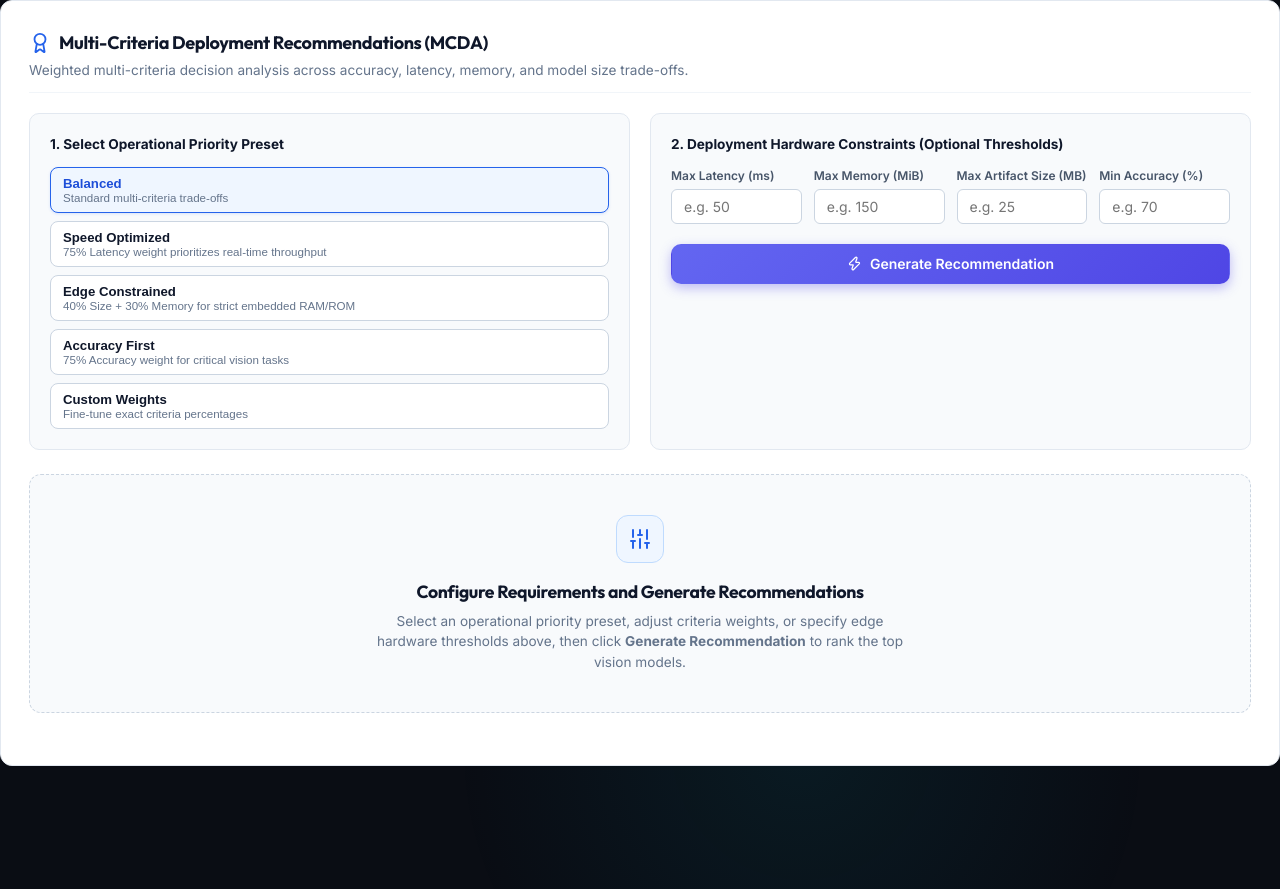
Test: Recommendations Component › rejects custom weights when all weights are zero with inline validation message
// Select Custom Weights preset
Click the button "Custom Weights Fine-tune exact criteria percentages".
click(115, 399)  # box [50,383,609,429]
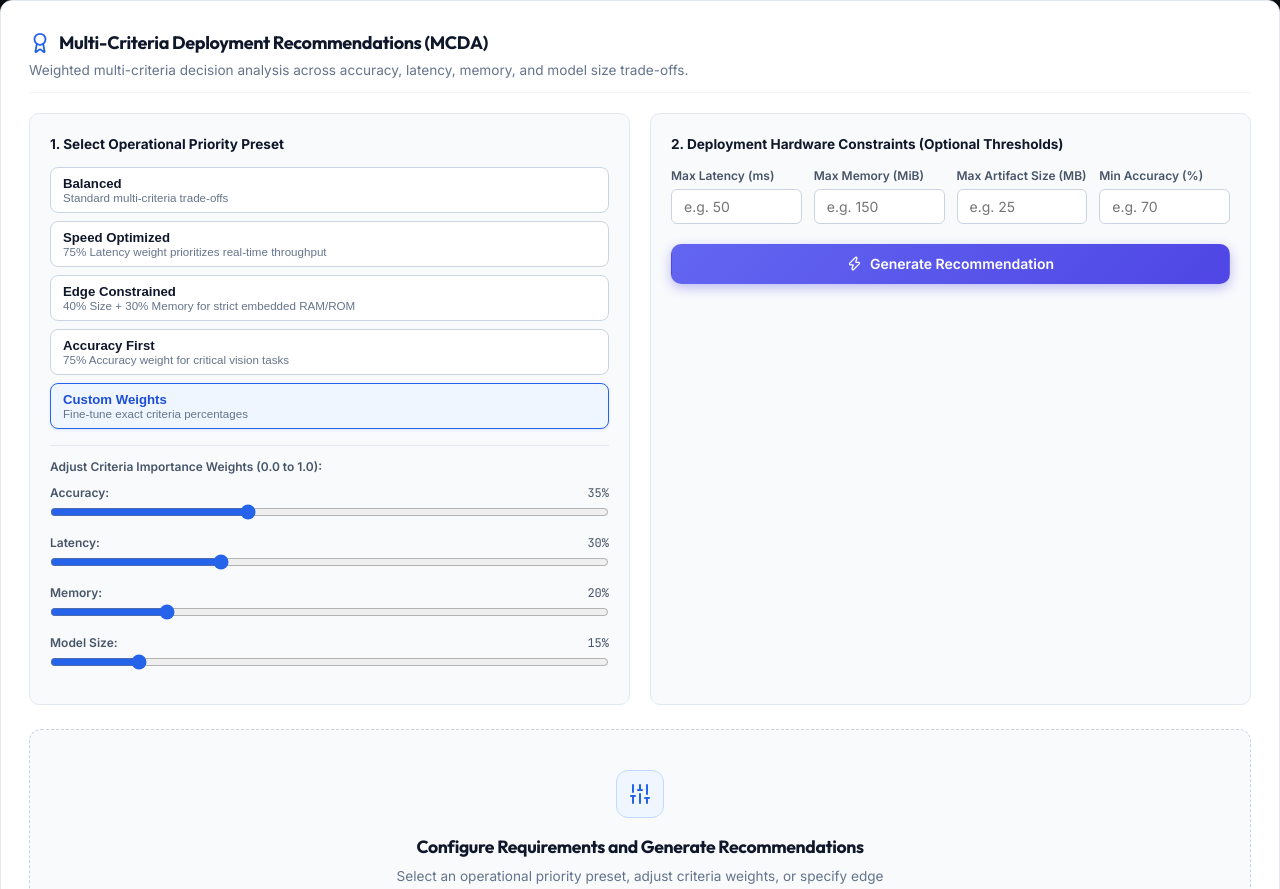
// Set all 4 criteria sliders to 0
Set the slider with id "slider-weight-accuracy" to "0" at (58, 512), box [50,504,609,520]
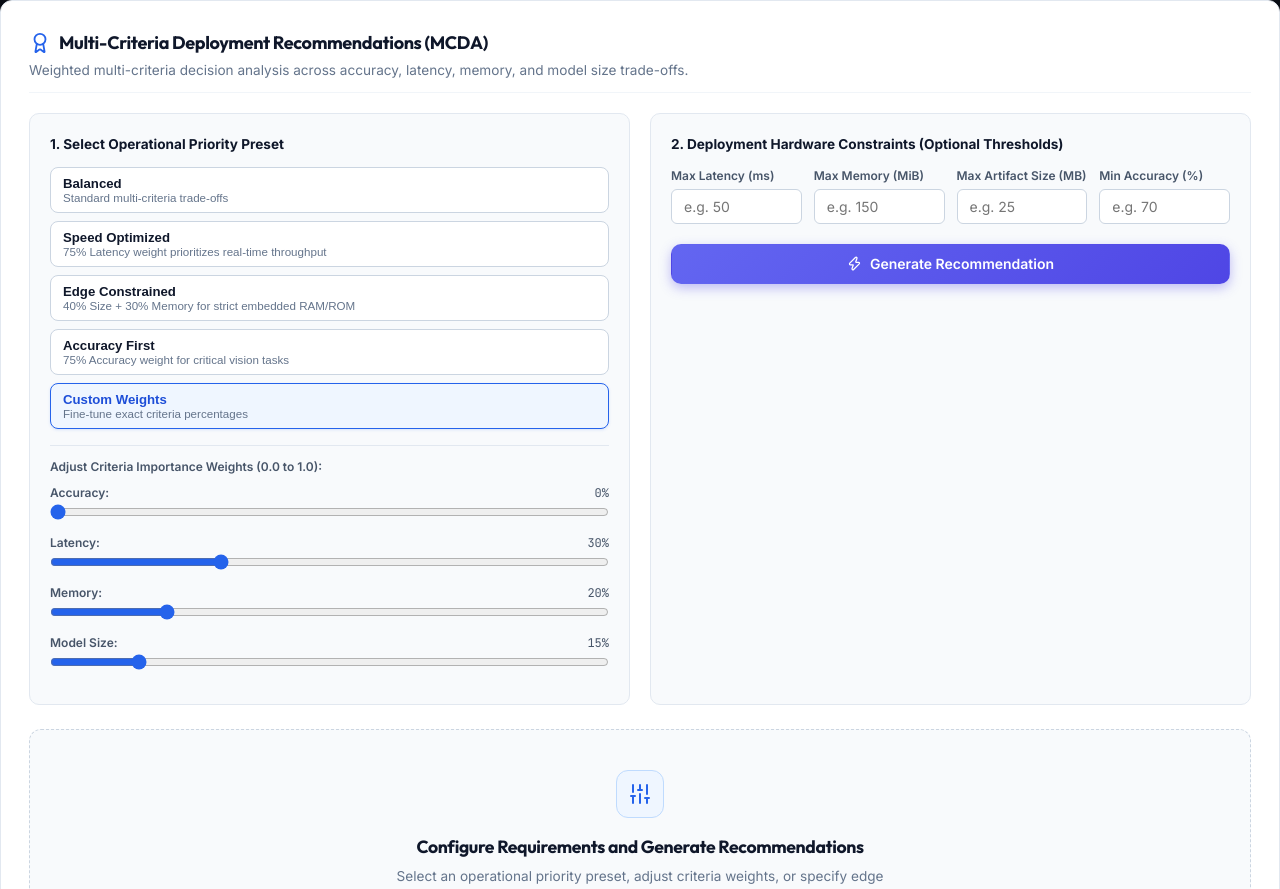
Set the slider with id "slider-weight-latency" to "0" at (58, 562), box [50,554,609,570]
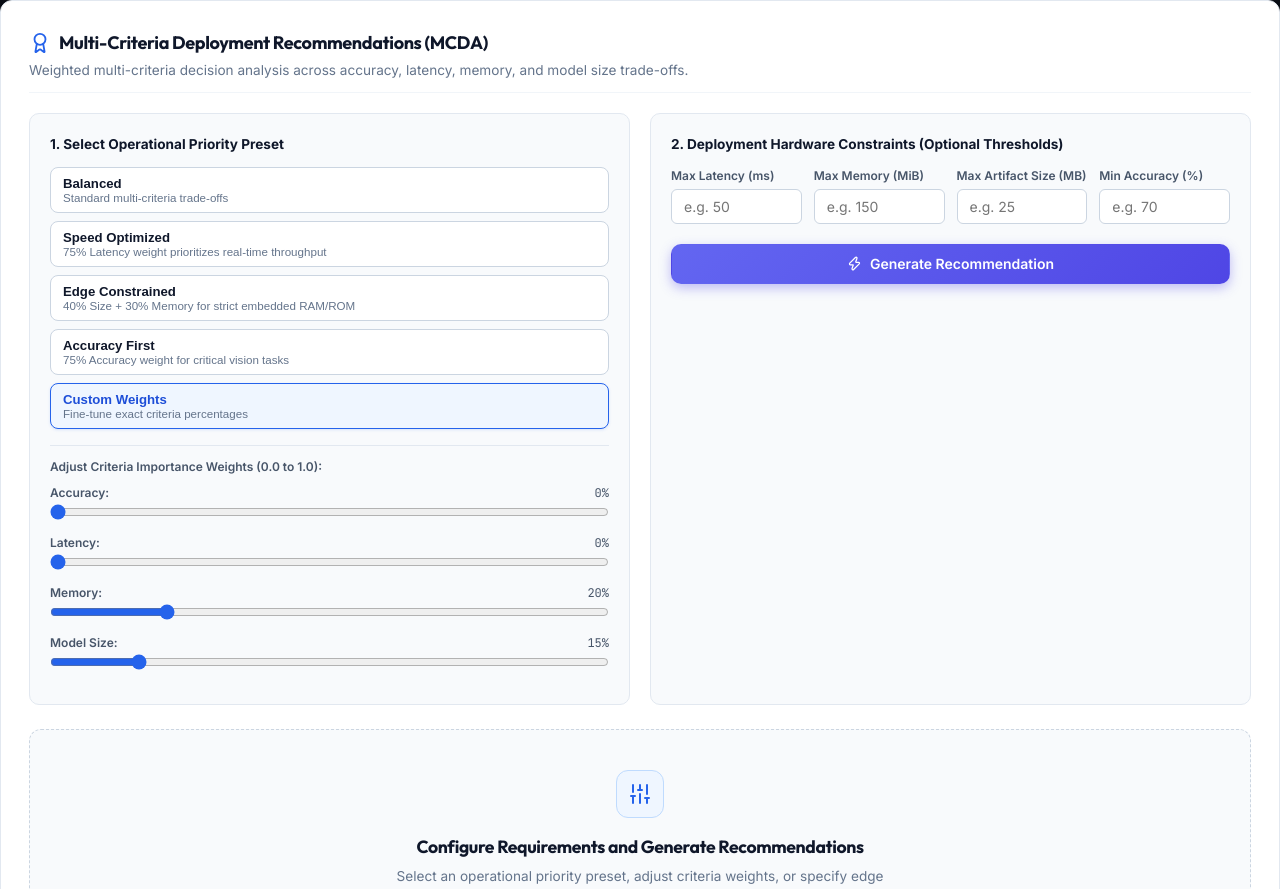
Set the slider with id "slider-weight-memory" to "0" at (58, 612), box [50,604,609,620]
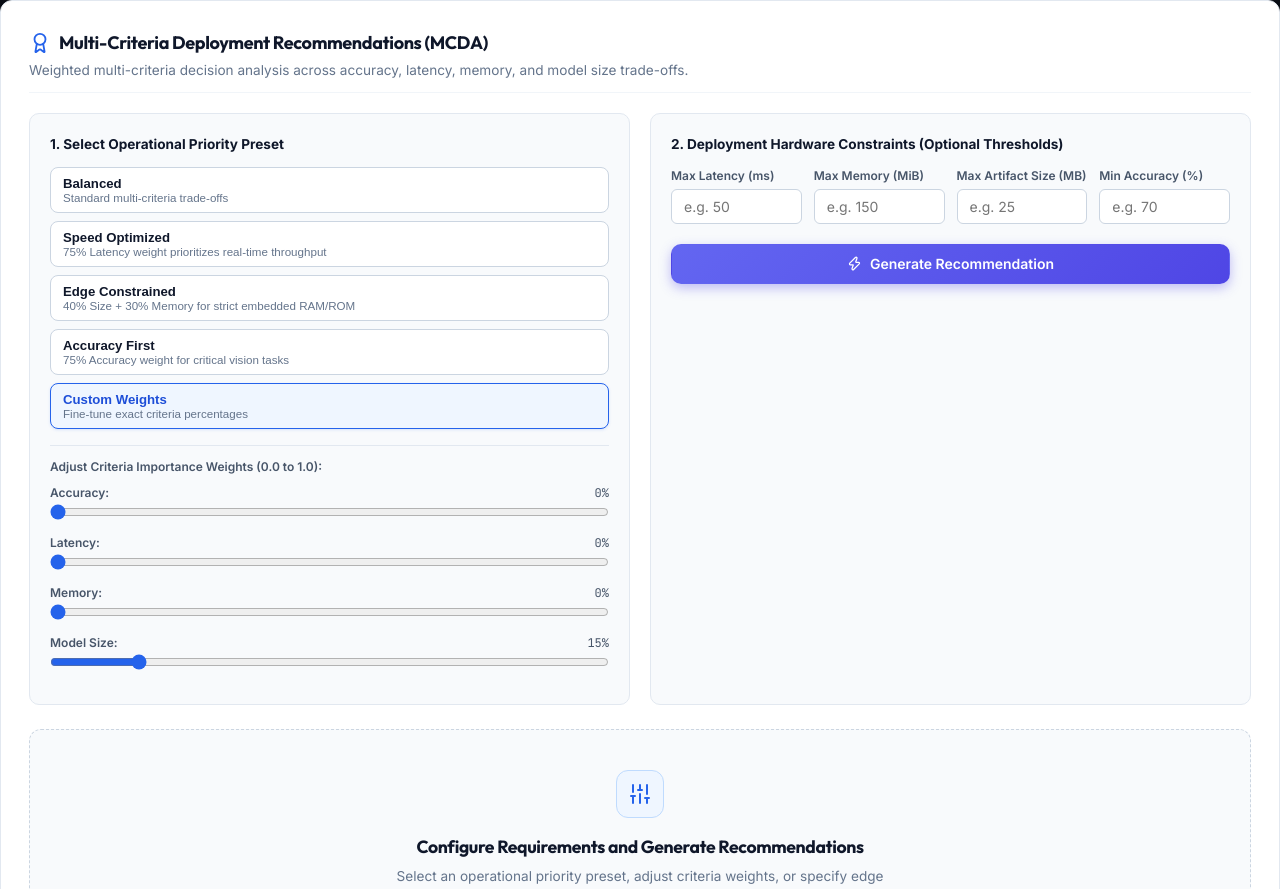
Set the slider with id "slider-weight-model_size" to "0" at (58, 662), box [50,654,609,670]
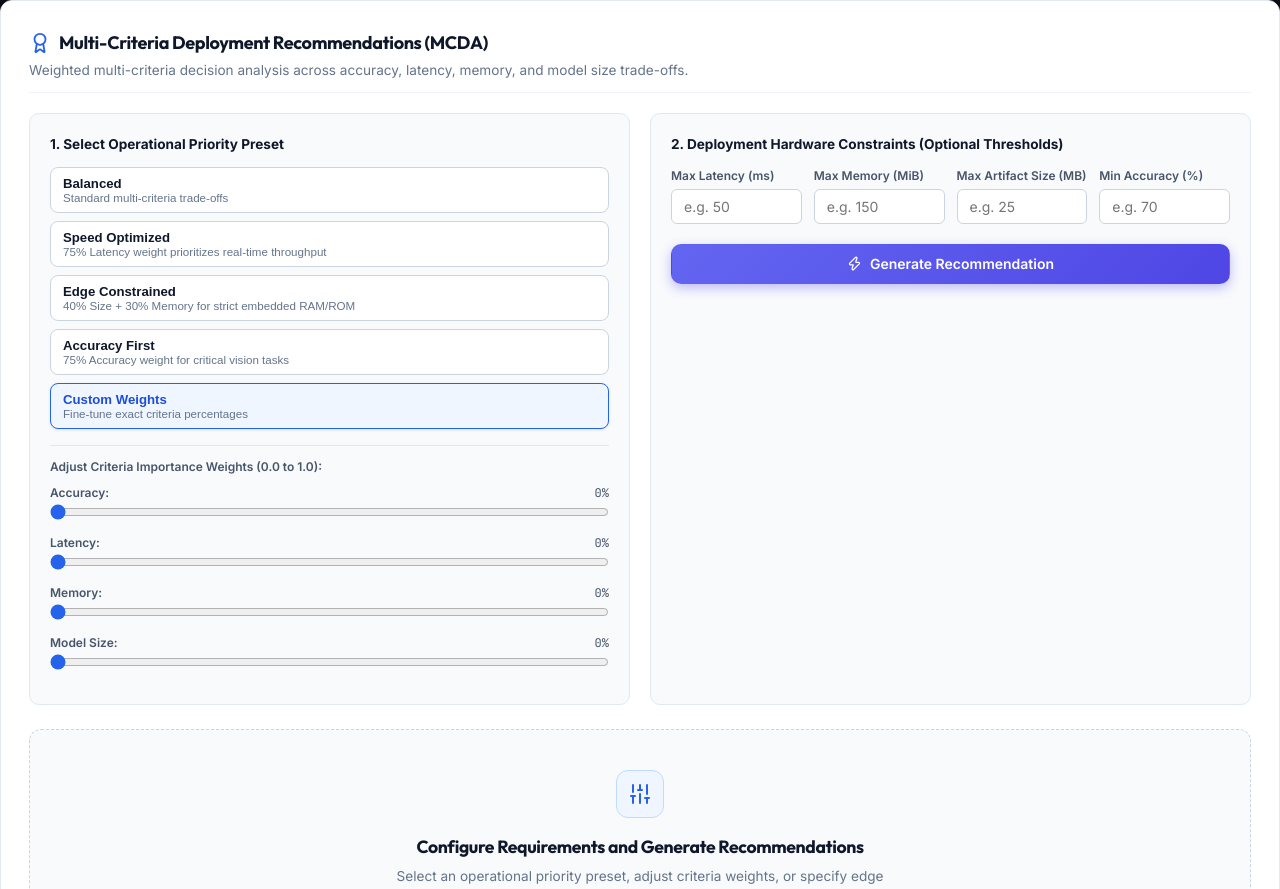
// Click generate
Click the button "Generate Recommendation".
click(950, 264)  # box [671,244,1230,284]
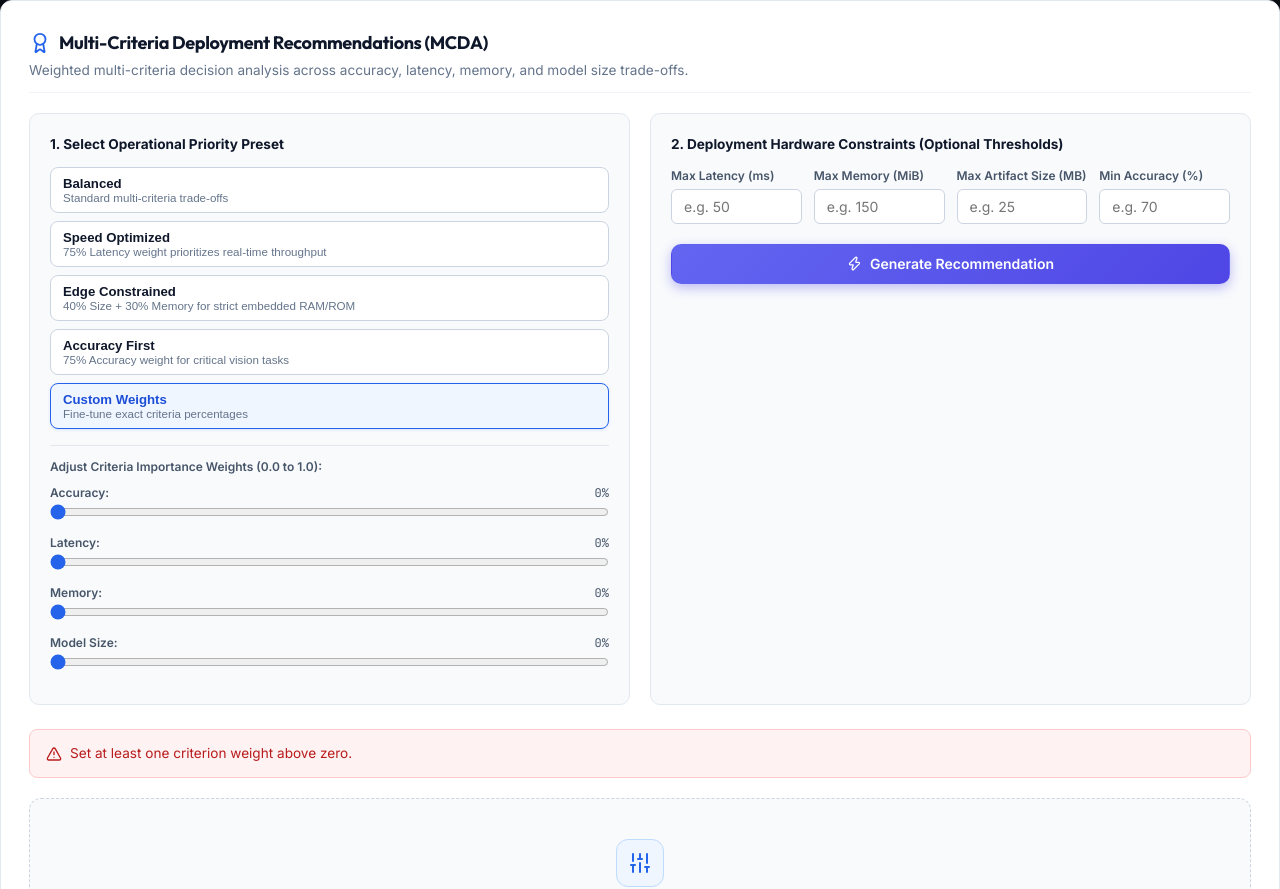
Expected: the text "Set at least one criterion weight above zero." is shown, [70,743,352,764]
